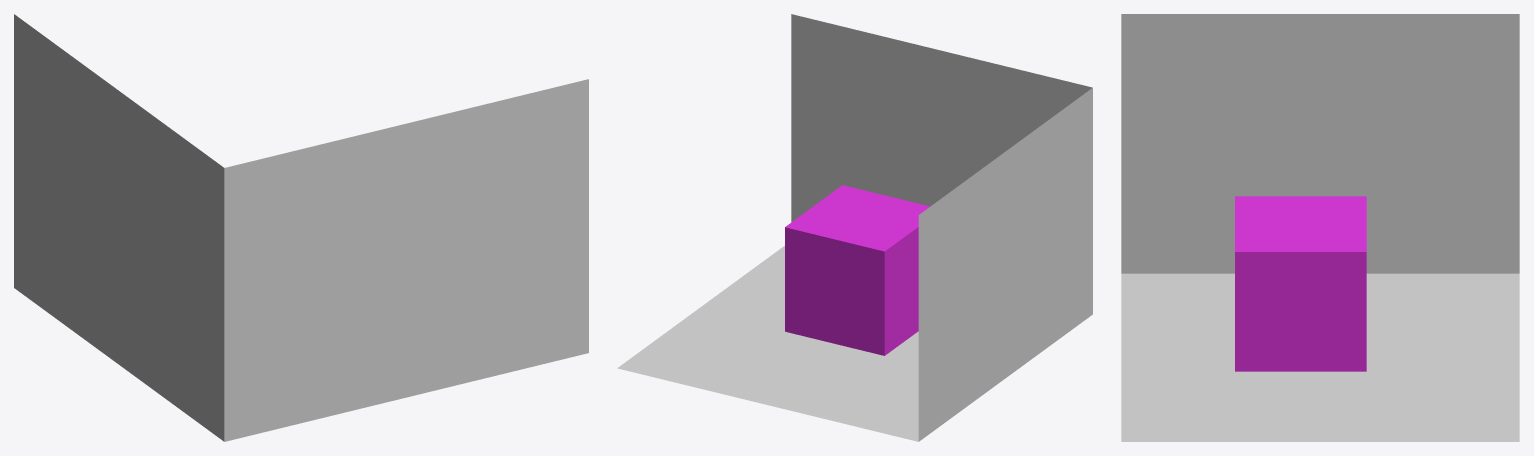
3 views of the same model, side by side, from view 1: azimuth 30°, elevation 25°; view 2: azimuth 150°, elevation 25°; view 3: azimuth 270°, elevation 25° (orthographic). The views are drawn at different scales.
Parts seen in each view (by area): view 1: Cube; view 2: Cube; view 3: Cube.
Part boxes in pixels (<box>): Cube: <box>14,14,588,441</box>; Cube: <box>617,14,1092,441</box>; Cube: <box>1121,14,1519,441</box>.
Bounding box in the file's own units: 6.05 × 4.35 × 6.05.
